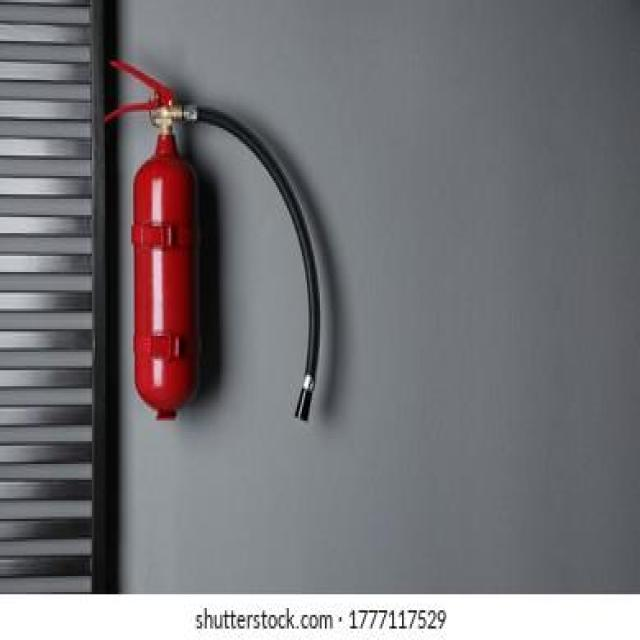fire_extinguisher: (95, 51, 325, 426)
